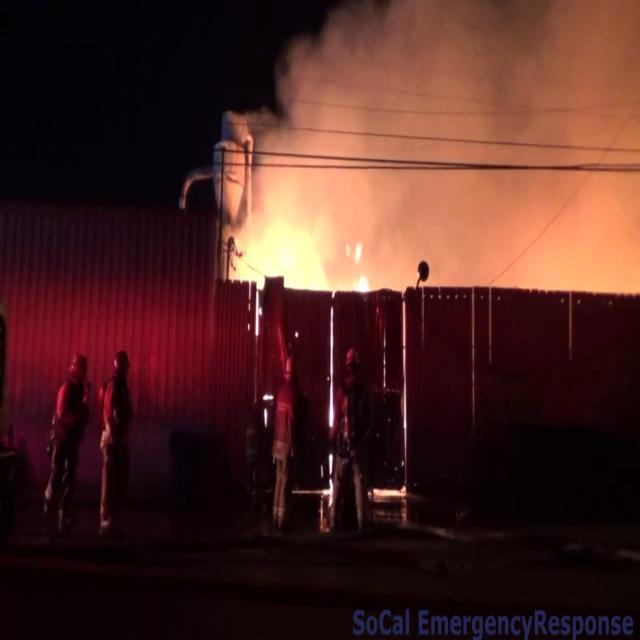Fire: (226, 195, 377, 292)
Smoke: (245, 0, 640, 265)
